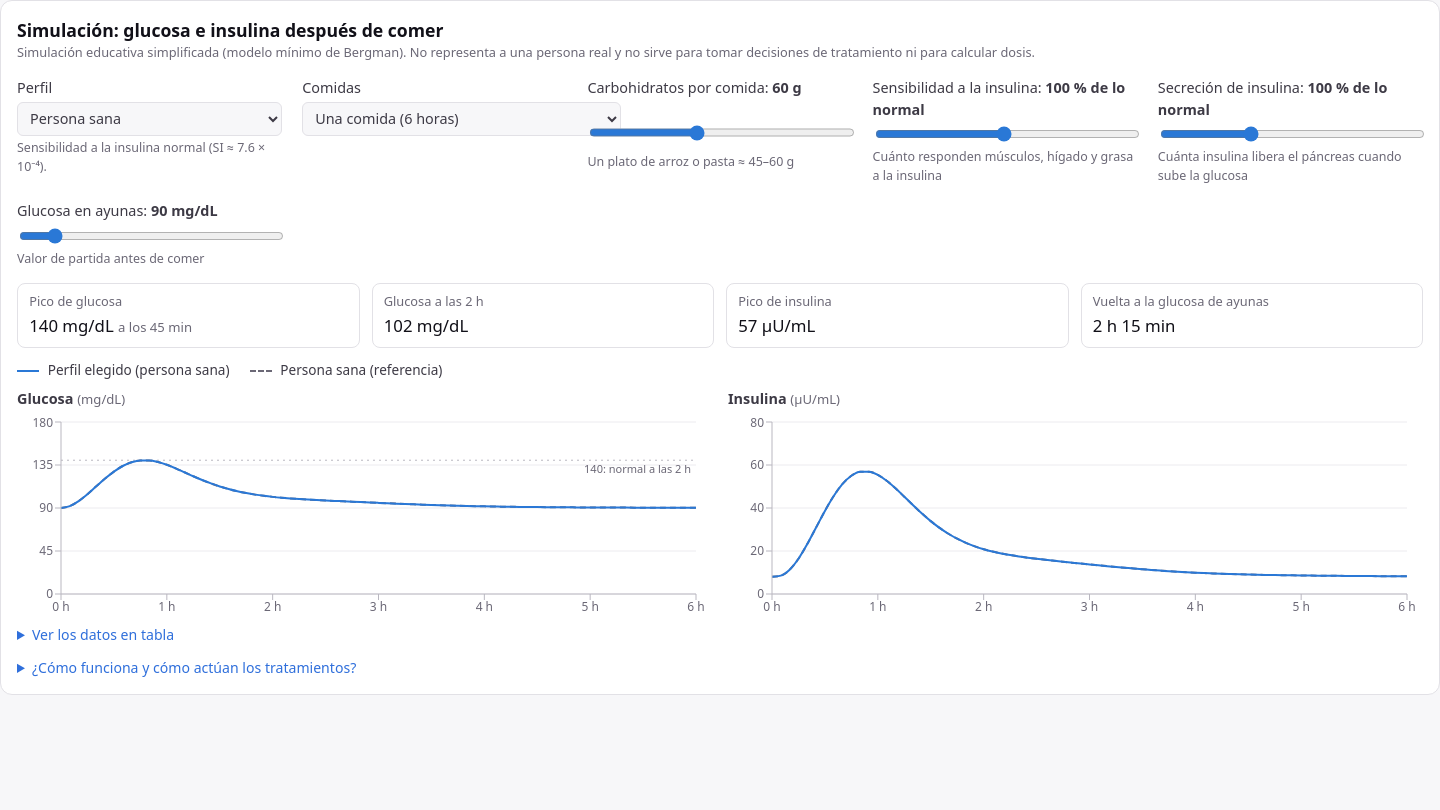
panel de simulación › al mover un control, la leyenda indica que el perfil está ajustado
Set the slider labelled "Secreción de insulina: 100 % de lo normal" to "50" at x=1209, y=134, box [1160,126,1425,142]
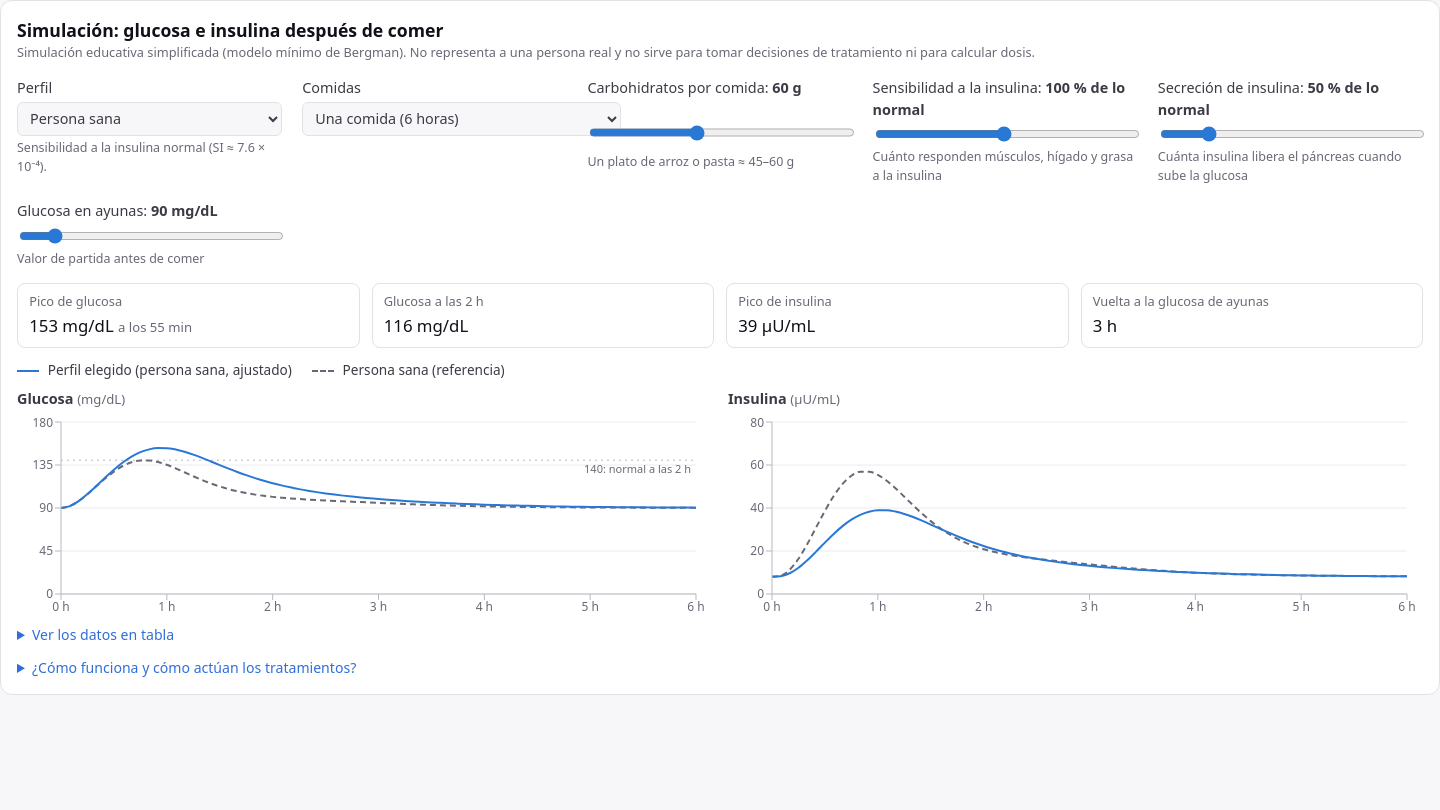
Check: the text "Perfil elegido (persona sana, ajustado)" is shown, box [17,360,292,380]
